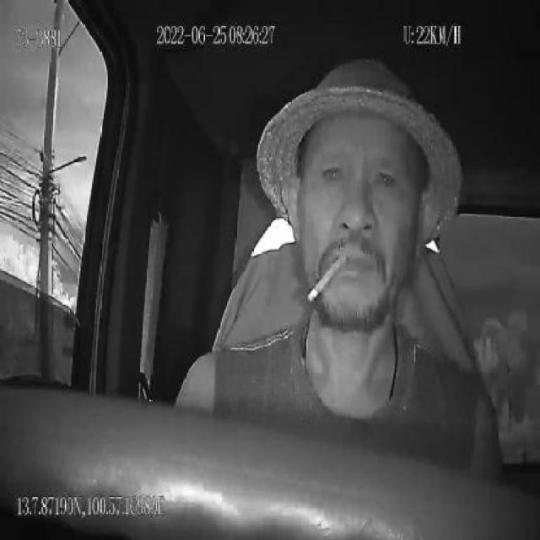smoking: (308, 257, 346, 302)
